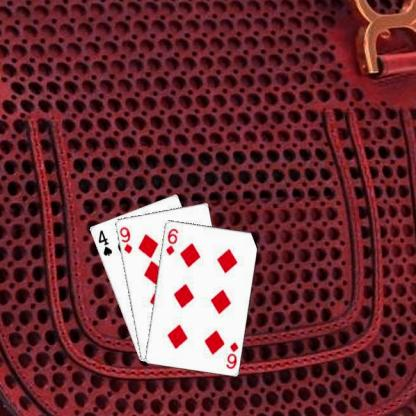4S: (96, 227, 113, 257)
6D: (223, 339, 240, 370), (163, 225, 179, 256)
9D: (117, 224, 133, 255)
